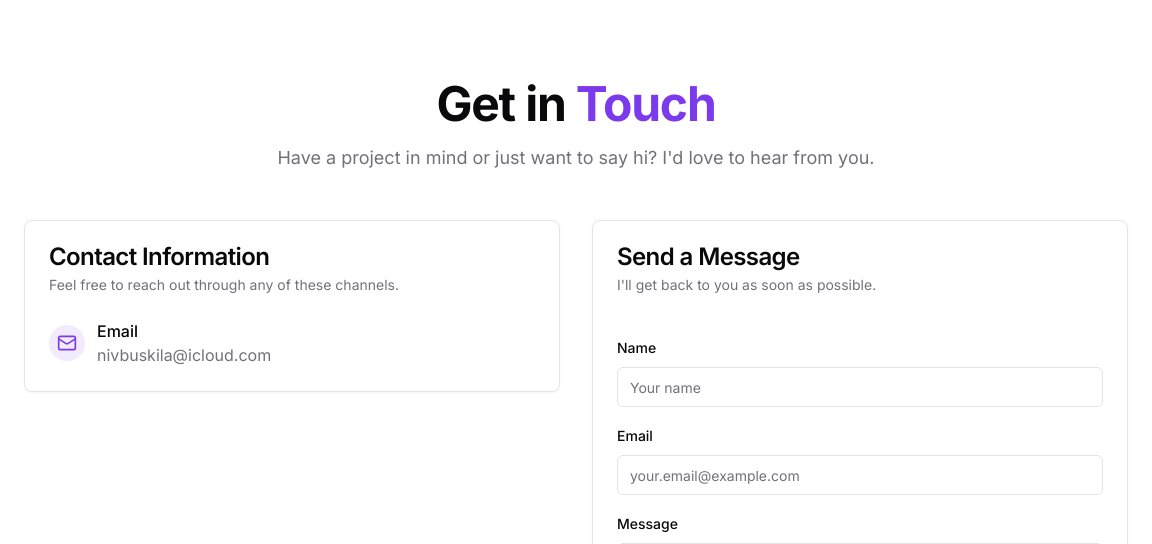
Test case: Contact › validates email format
Note: Test invalid email
Type "invalid-email" into the field labelled "Email" at (860, 475), box [617,455,1103,495]
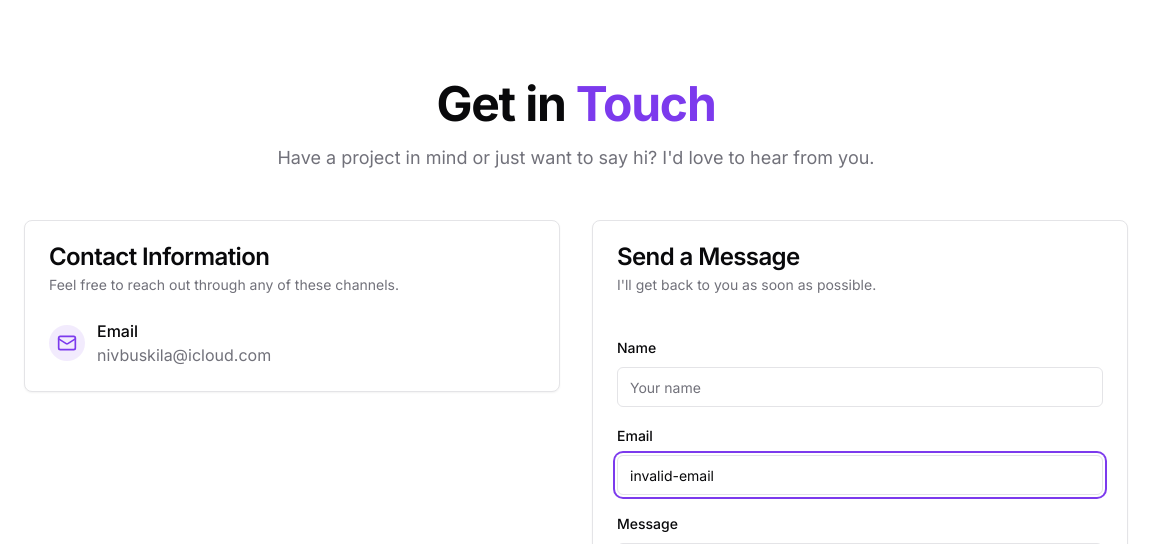
Press Tab
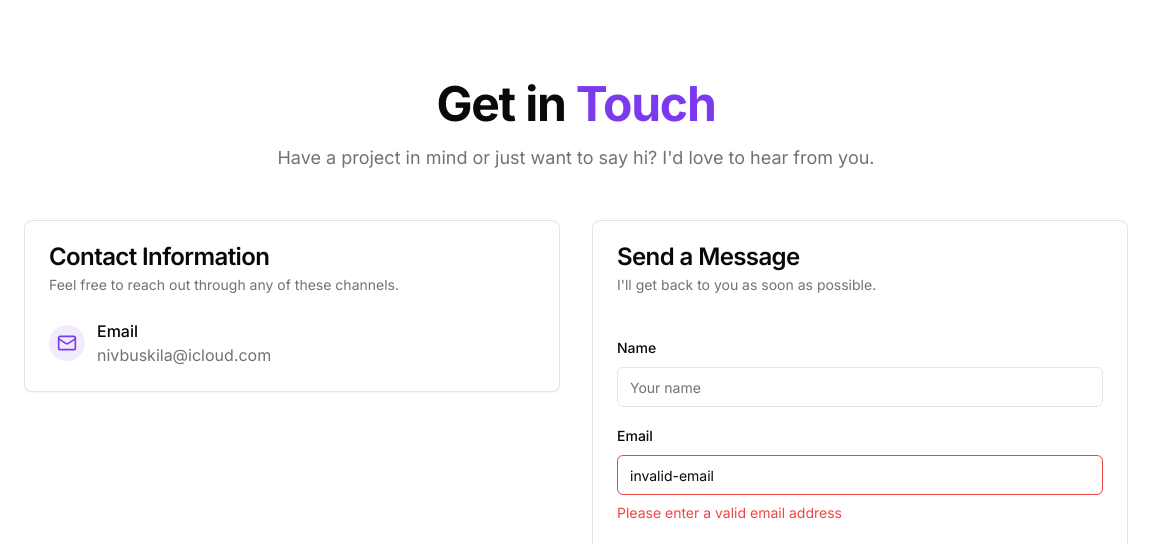
Expected: the text "Please enter a valid email address" is shown, [617,504,842,521]
